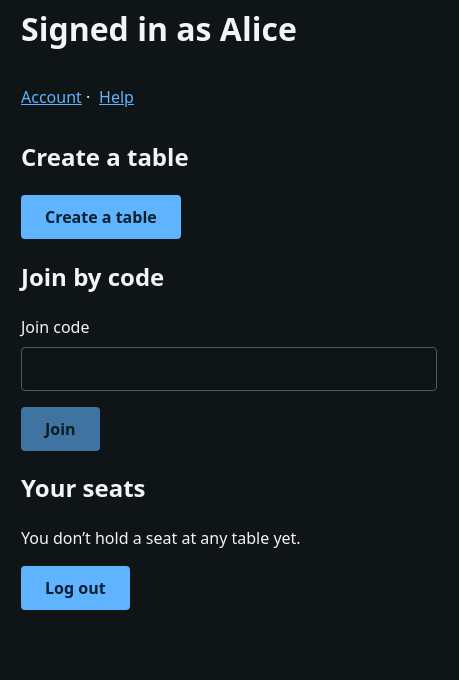
it: Home (S-04, docs/32_UX/Screen_Inventory.md §3) › shows a generic join-failed message without distinguishing wrong code from full or nonexistent (FR-022)
Type "ZZZZZZ" into the field labelled "Join code" at {"x": 229, "y": 368}, box [21,346,437,390]
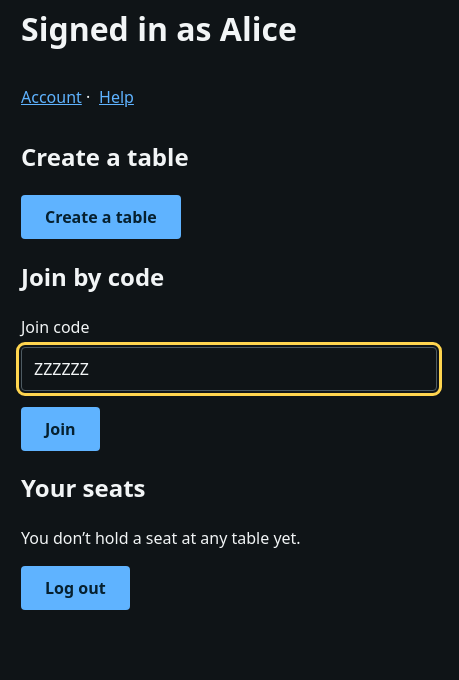
Click the button "Join" at {"x": 60, "y": 428}, box [21,406,100,450]
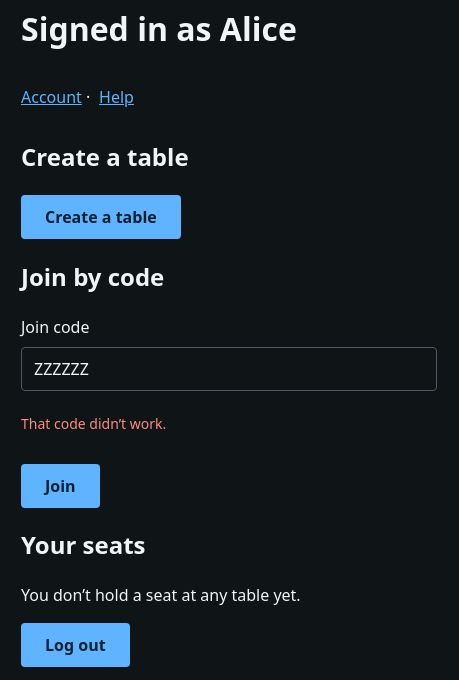
Expected: the message reads "That code didn’t work.", [21,414,166,432]
